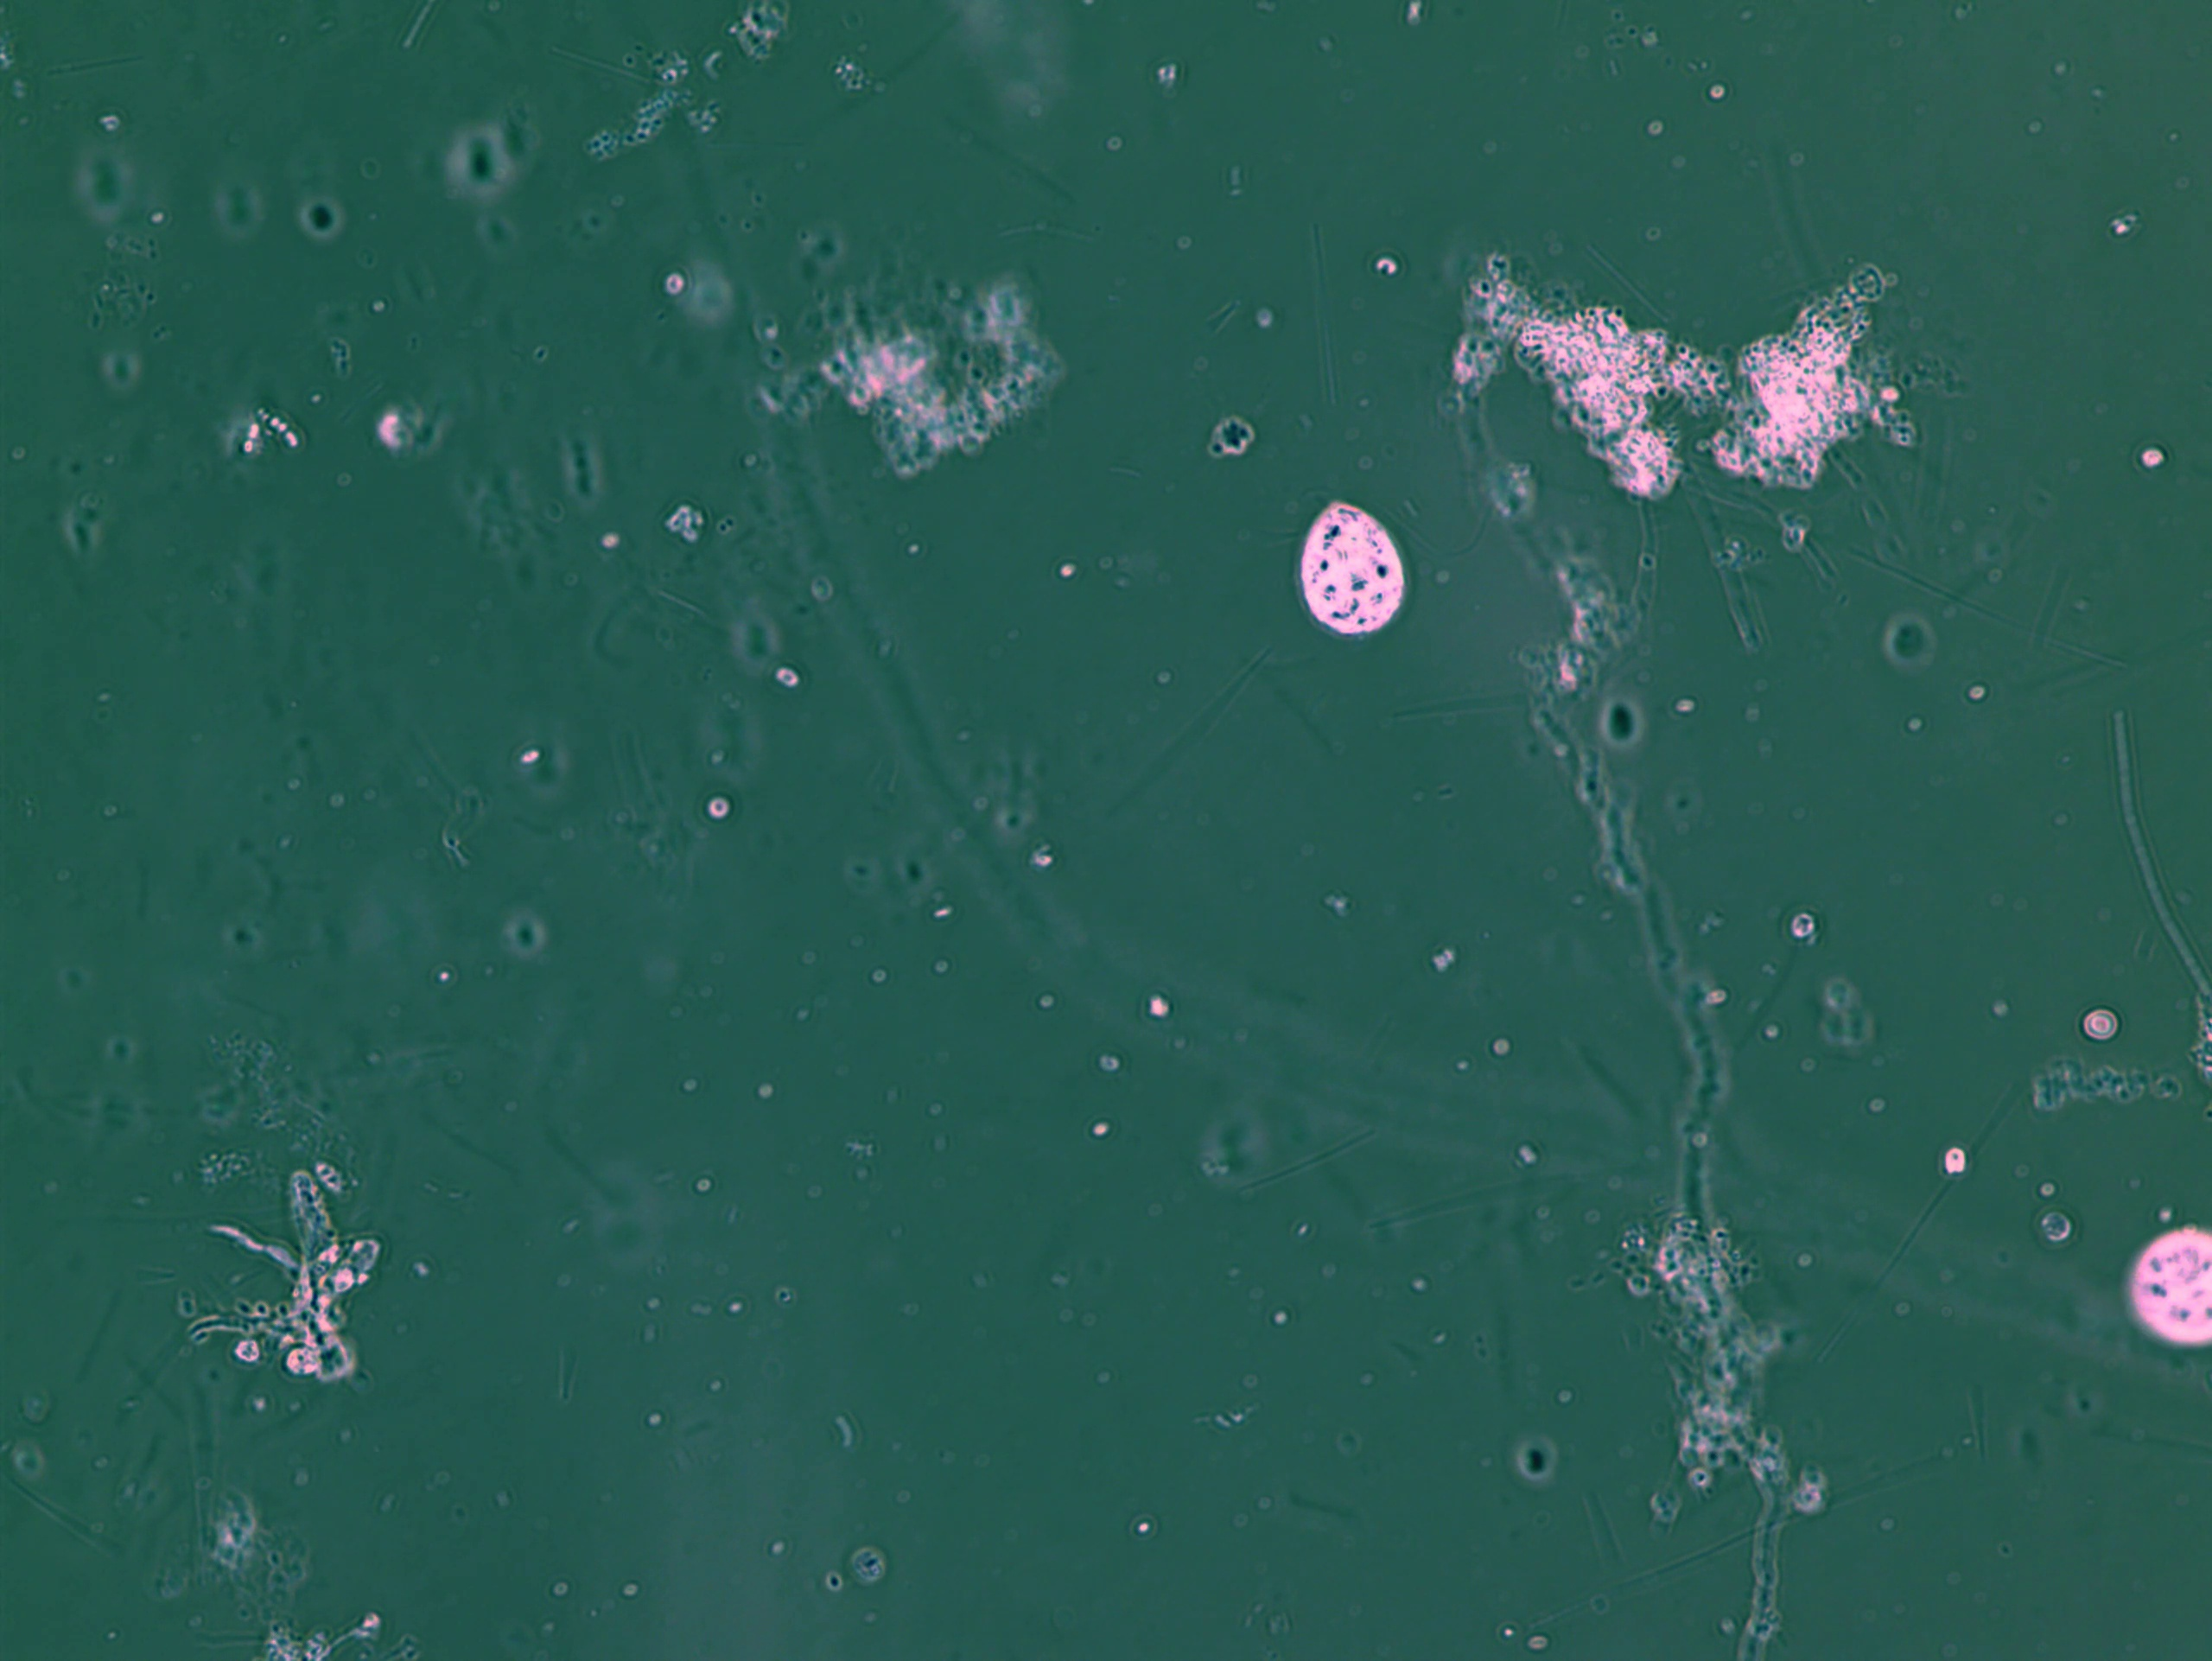depth:0: (1261, 478, 1436, 665)
